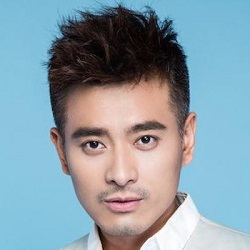unmask: (56, 82, 183, 236)
